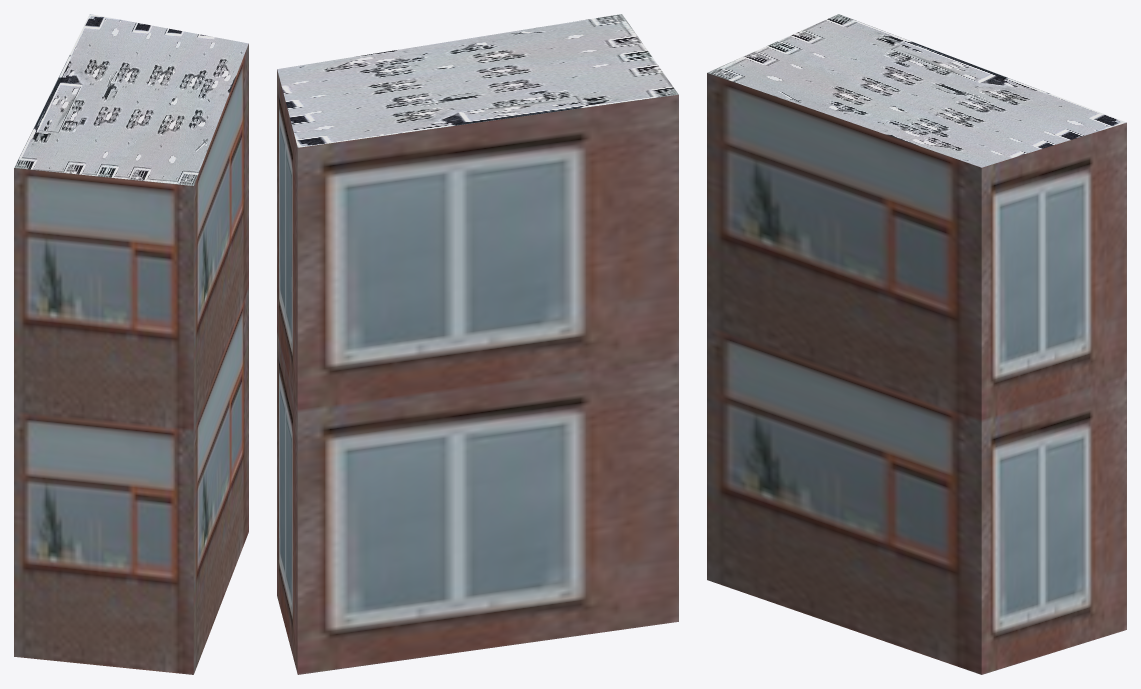
The model's file is ResTex__1184.fbx.
3 views of the same model, side by side, from view 1: azimuth 30°, elevation 25°; view 2: azimuth 150°, elevation 25°; view 3: azimuth 270°, elevation 25° (orthographic). The views are drawn at different scales.
Visible parts, largest first — view 1: CityEngineMaterial_19_m, CityEngineMaterial_4_m; view 2: CityEngineMaterial_19_m, CityEngineMaterial_4_m; view 3: CityEngineMaterial_19_m, CityEngineMaterial_4_m.
Part boxes in pixels (left/top/right/bottom): CityEngineMaterial_19_m: left=14, top=44, right=248, bottom=674; CityEngineMaterial_4_m: left=14, top=14, right=248, bottom=185; CityEngineMaterial_19_m: left=277, top=69, right=678, bottom=674; CityEngineMaterial_4_m: left=277, top=14, right=678, bottom=147; CityEngineMaterial_19_m: left=707, top=73, right=1126, bottom=674; CityEngineMaterial_4_m: left=707, top=14, right=1126, bottom=167.
Size of the model in its own units: 3.9 by 6 by 4.5.
2 materials, 2 textured.
